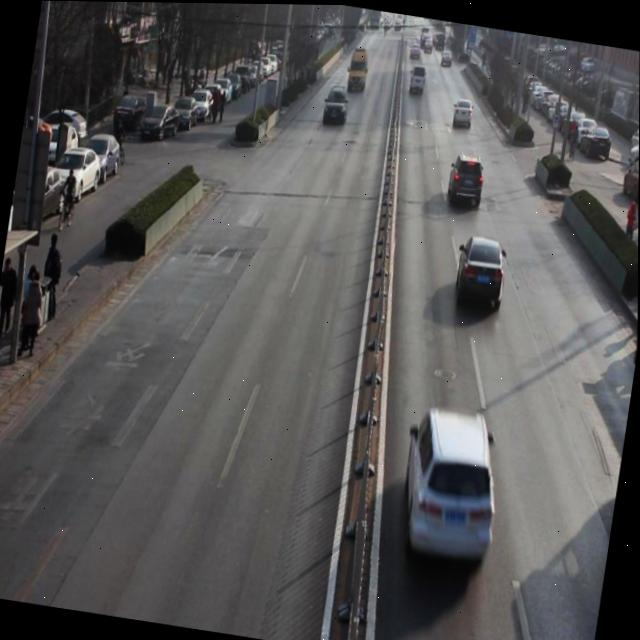car: (390, 401, 514, 578), (449, 229, 512, 314), (445, 151, 490, 212), (320, 82, 354, 132), (451, 93, 476, 132)
truck: (347, 43, 372, 89), (407, 56, 432, 101)
